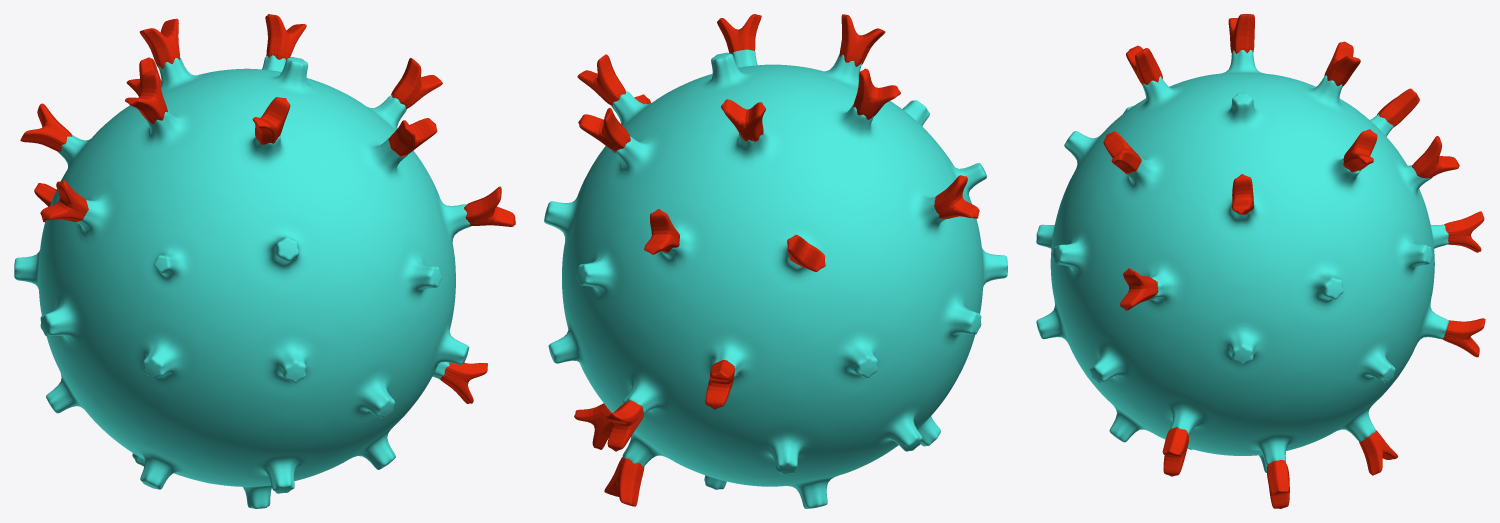
The model's file is linfoncitoB.fbx.
The picture shows the model from 3 angles, left to right: view 1: azimuth 30°, elevation 25°; view 2: azimuth 150°, elevation 25°; view 3: azimuth 270°, elevation 25°; orthographic projection. The views are drawn at different scales.
Parts seen in each view (by area): view 1: Balas; view 2: Balas; view 3: Balas.
Boxes of the visible parts, bbox=[...] form: Balas: bbox=[14, 14, 515, 508]; Balas: bbox=[544, 14, 1007, 508]; Balas: bbox=[1036, 14, 1485, 508].
Bounding box in the file's own units: 2.23 × 2.25 × 2.29.
